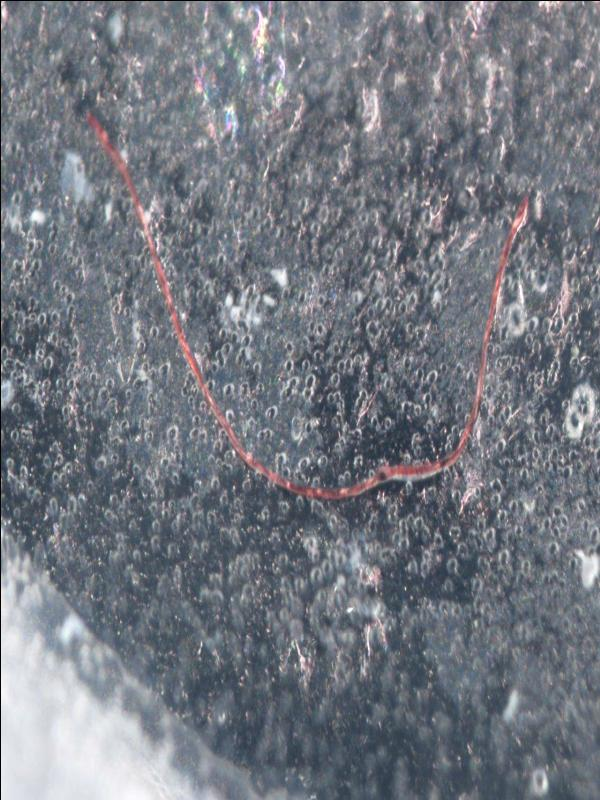microplastic: (1, 2, 598, 797), (82, 103, 529, 503)
